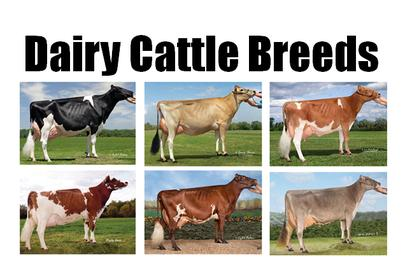cow: (279, 175, 386, 252), (153, 174, 261, 249), (29, 85, 135, 161), (280, 86, 386, 161), (21, 175, 127, 249), (157, 86, 261, 157)
